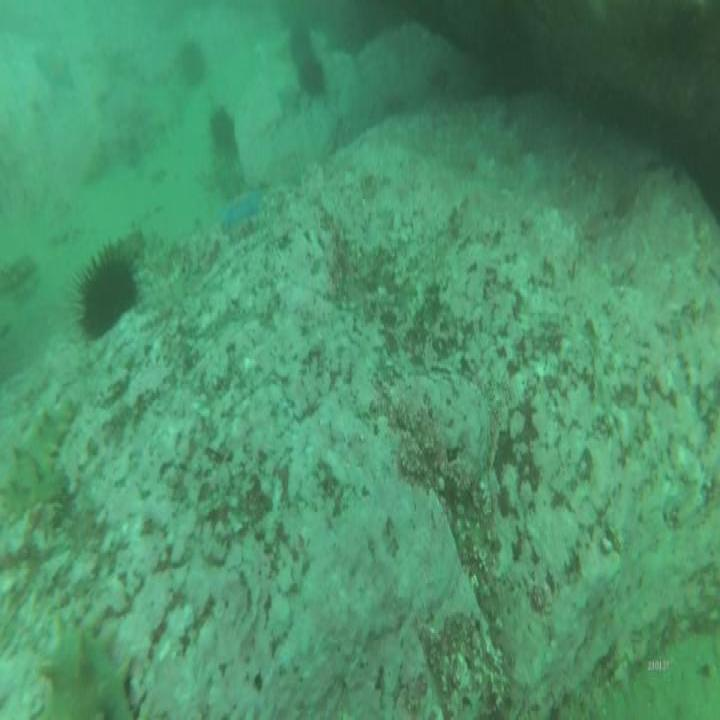echinus: (80, 260, 139, 340), (209, 108, 234, 144), (297, 62, 323, 96), (183, 41, 204, 83), (290, 23, 312, 61)
holothurian: (1, 397, 79, 526), (47, 626, 133, 720)
starfish: (216, 185, 262, 226)
